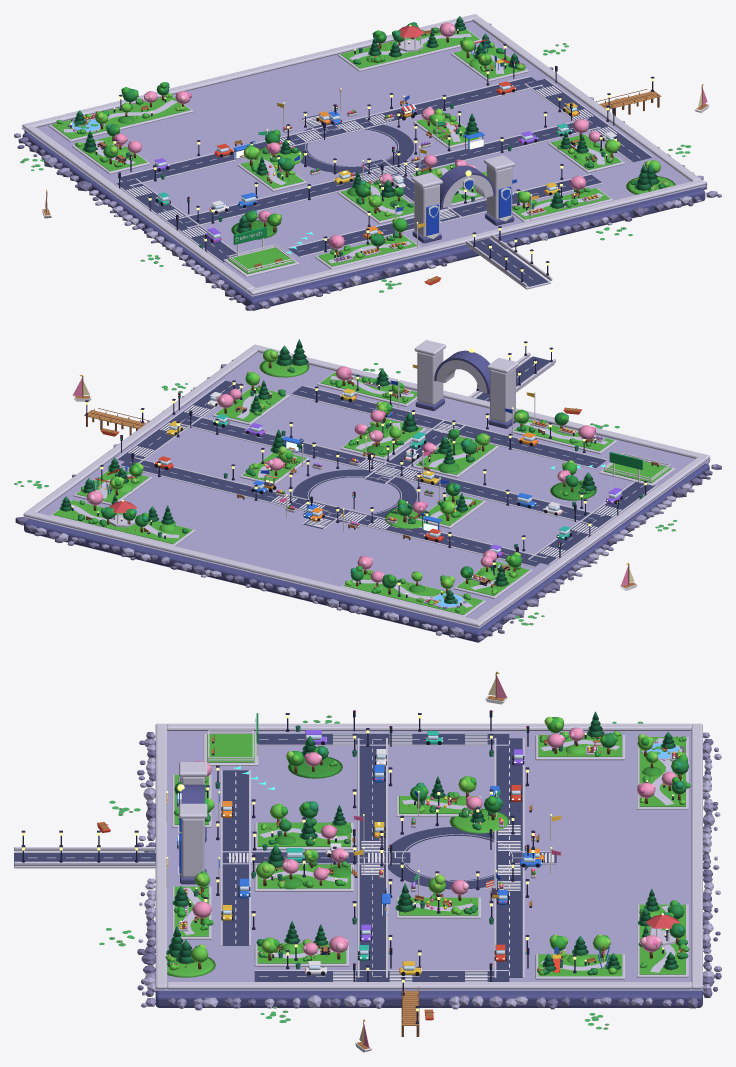
The model's file is city_base.glb.
3 renders of one model, top to bottom at view 1: azimuth 30°, elevation 25°; view 2: azimuth 150°, elevation 25°; view 3: azimuth 270°, elevation 25°, orthographic. The views are drawn at different scales.
Visible parts, largest first — view 1: city_ground, city_streets, city_parks, city_trees_leaf, city_rocks, city_gate, city_vehicles, city_bridge, city_lamps, city_assembly, city_water_detail, city_street_furniture (+7 smaller); view 2: city_ground, city_streets, city_parks, city_trees_leaf, city_rocks, city_gate, city_vehicles, city_lamps, city_water_detail, city_assembly, city_lawn_pads, city_street_furniture (+7 smaller); view 3: city_ground, city_streets, city_trees_leaf, city_parks, city_rocks, city_vehicles, city_bridge, city_gate, city_lamps, city_water_detail, city_lawn_pads, city_assembly (+7 smaller).
Boxes of the visible parts, x1,y1,x2,y2 form: city_ground: [21, 14, 705, 310]; city_streets: [114, 76, 652, 262]; city_parks: [48, 26, 624, 269]; city_trees_leaf: [56, 16, 669, 259]; city_rocks: [14, 23, 721, 310]; city_gate: [411, 155, 515, 243]; city_vehicles: [153, 81, 617, 243]; city_bridge: [466, 226, 552, 289]; city_lamps: [70, 29, 617, 257]; city_assembly: [223, 227, 299, 277]; city_water_detail: [20, 43, 709, 292]; city_street_furniture: [118, 61, 615, 230]; city_ground: [23, 344, 710, 642]; city_streets: [116, 380, 657, 567]; city_parks: [50, 372, 617, 616]; city_trees_leaf: [59, 339, 596, 612]; city_rocks: [15, 359, 721, 640]; city_gate: [414, 340, 518, 428]; city_vehicles: [154, 388, 622, 557]; city_lamps: [72, 374, 647, 605]; city_water_detail: [14, 363, 677, 625]; city_assembly: [599, 452, 675, 486]; city_lawn_pads: [259, 359, 596, 528]; city_street_furniture: [120, 392, 619, 557]; city_ground: [155, 723, 702, 1007]; city_streets: [220, 732, 556, 981]; city_trees_leaf: [165, 711, 690, 975]; city_parks: [172, 735, 688, 979]; city_rocks: [137, 732, 721, 1010]; city_vehicles: [221, 730, 544, 975]; city_bridge: [14, 830, 155, 868]; city_gate: [177, 762, 207, 884]; city_lamps: [189, 713, 678, 981]; city_water_detail: [97, 671, 667, 1052]; city_lawn_pads: [167, 756, 508, 977]; city_assembly: [203, 713, 258, 765].
Size of what is drawn, in the model's own units: 178 by 21.8 by 150.
